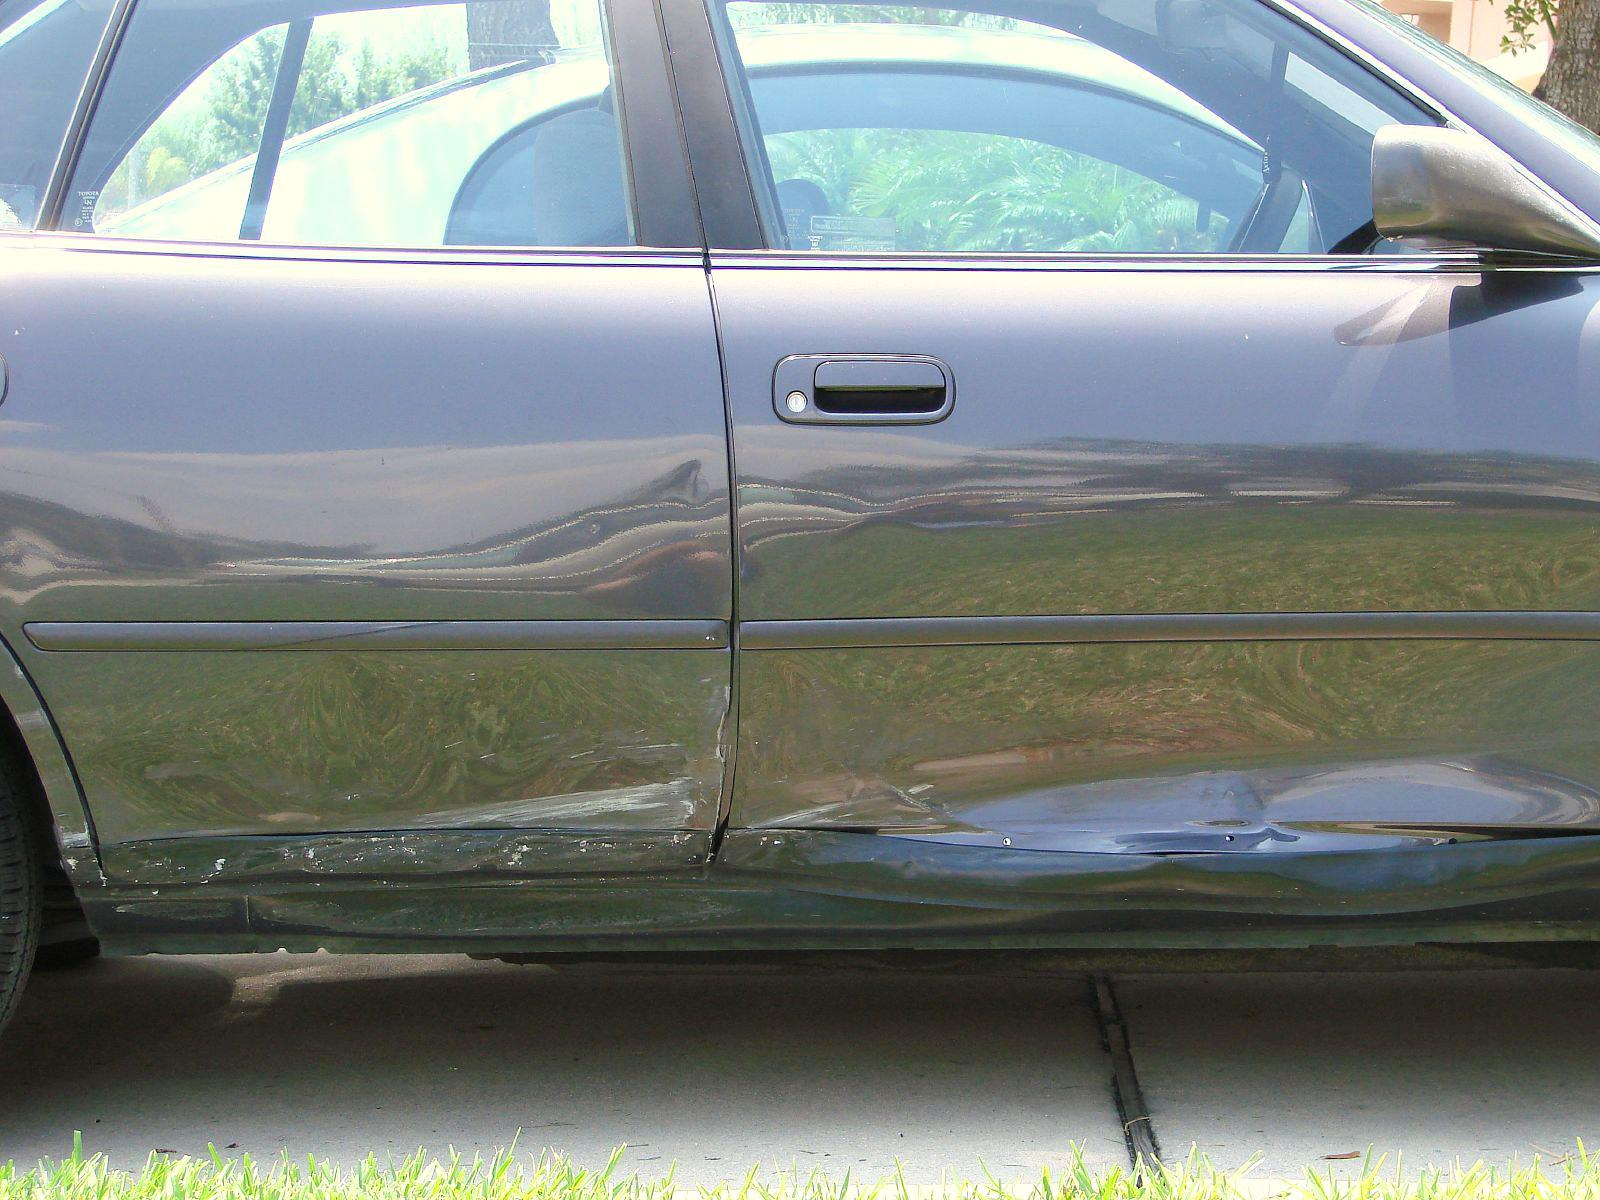RunningBoard-Dent: (76, 797, 1599, 978)
doorouter-dent: (734, 300, 1599, 908)
